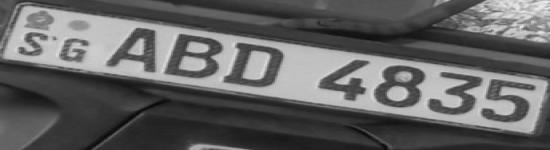3: (429, 69, 485, 117)
4: (372, 62, 428, 109), (316, 57, 371, 102)
5: (482, 76, 539, 126)
A: (103, 25, 160, 74)
B: (162, 32, 224, 80)
D: (225, 41, 292, 89)
G: (55, 37, 94, 64)
S: (17, 31, 51, 58)
